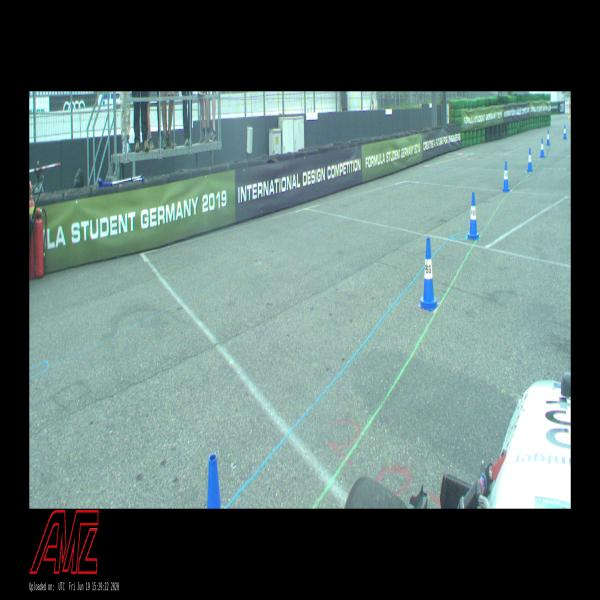blue_cone: (418, 237, 439, 311), (206, 452, 221, 509), (468, 192, 479, 239), (502, 162, 510, 192), (527, 148, 533, 172), (540, 138, 544, 157), (563, 124, 567, 140), (546, 130, 550, 145)
